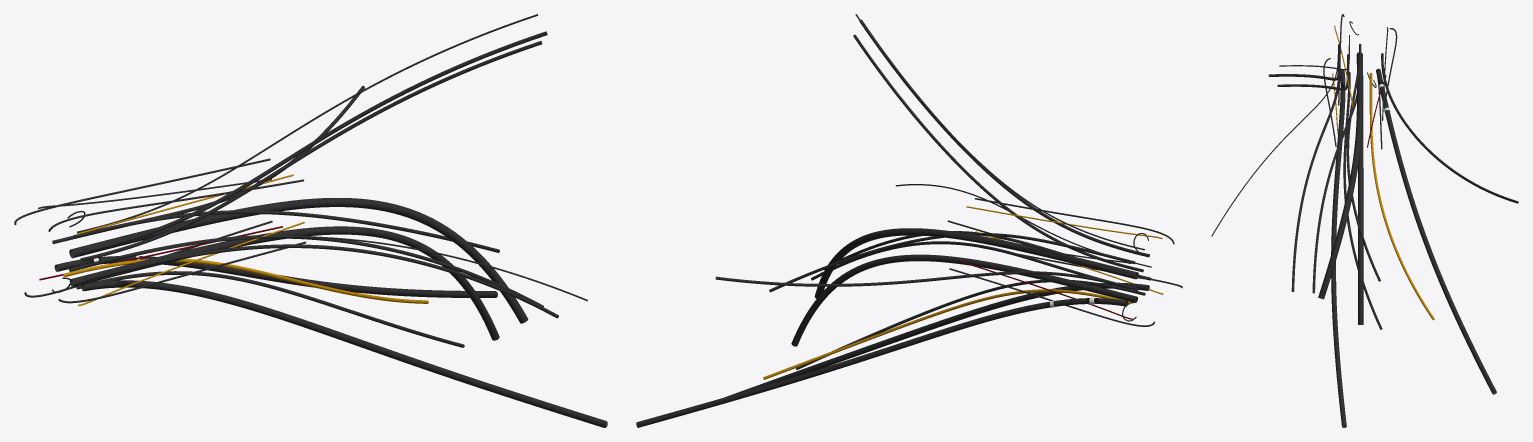
File: uploads_files_6627608_PowerCoreCables.fbx
3 renders of one model, left to right at view 1: azimuth 30°, elevation 25°; view 2: azimuth 150°, elevation 25°; view 3: azimuth 270°, elevation 25°, orthographic. The views are drawn at different scales.
Visible parts, largest first — view 1: NurbsPath.086, NurbsPath.088, NurbsPath.085, NurbsPath.082, NurbsPath.095, NurbsPath.092, NurbsPath.097, NurbsPath.093, NurbsPath.091, NurbsPath.087, NurbsPath.084, NurbsPath.094 (+5 smaller); view 2: NurbsPath.082, NurbsPath.085, NurbsPath.088, NurbsPath.086, NurbsPath.089, NurbsPath.084, NurbsPath.092, NurbsPath.095, NurbsPath.091, NurbsPath.087, NurbsPath.093, NurbsPath.094 (+1 smaller); view 3: NurbsPath.082, NurbsPath.086, NurbsPath.088, NurbsPath.085, NurbsPath.084, NurbsPath.091, NurbsPath.087, NurbsPath.097, NurbsPath.089, NurbsPath.093, NurbsPath.096, NurbsPath.092.
Boxes of the visible parts, x1,y1,x2,y2 form: NurbsPath.086: [81, 280, 607, 427]; NurbsPath.088: [69, 198, 528, 323]; NurbsPath.085: [69, 226, 499, 340]; NurbsPath.082: [54, 256, 497, 297]; NurbsPath.095: [85, 31, 547, 252]; NurbsPath.092: [80, 41, 542, 261]; NurbsPath.097: [84, 244, 558, 318]; NurbsPath.093: [69, 235, 543, 307]; NurbsPath.091: [73, 210, 499, 252]; NurbsPath.087: [76, 271, 464, 347]; NurbsPath.084: [63, 259, 428, 303]; NurbsPath.094: [77, 14, 537, 232]; NurbsPath.082: [636, 298, 1128, 427]; NurbsPath.085: [791, 254, 1137, 346]; NurbsPath.088: [814, 228, 1138, 298]; NurbsPath.086: [725, 282, 1149, 397]; NurbsPath.089: [715, 271, 1125, 287]; NurbsPath.084: [763, 289, 1130, 379]; NurbsPath.092: [853, 34, 1143, 272]; NurbsPath.095: [859, 19, 1149, 257]; NurbsPath.091: [769, 233, 1135, 292]; NurbsPath.087: [796, 280, 1145, 369]; NurbsPath.093: [811, 241, 1138, 290]; NurbsPath.094: [855, 14, 1144, 250]; NurbsPath.082: [1376, 68, 1496, 394]; NurbsPath.086: [1331, 70, 1346, 427]; NurbsPath.088: [1318, 52, 1363, 299]; NurbsPath.085: [1358, 103, 1363, 324]; NurbsPath.084: [1369, 73, 1434, 320]; NurbsPath.091: [1346, 43, 1380, 281]; NurbsPath.087: [1343, 72, 1382, 329]; NurbsPath.097: [1291, 71, 1340, 291]; NurbsPath.089: [1381, 53, 1518, 203]; NurbsPath.093: [1312, 93, 1356, 293]; NurbsPath.096: [1211, 54, 1337, 236]; NurbsPath.092: [1277, 54, 1349, 90].
Size of the model in its own units: 699 by 569 by 488.
